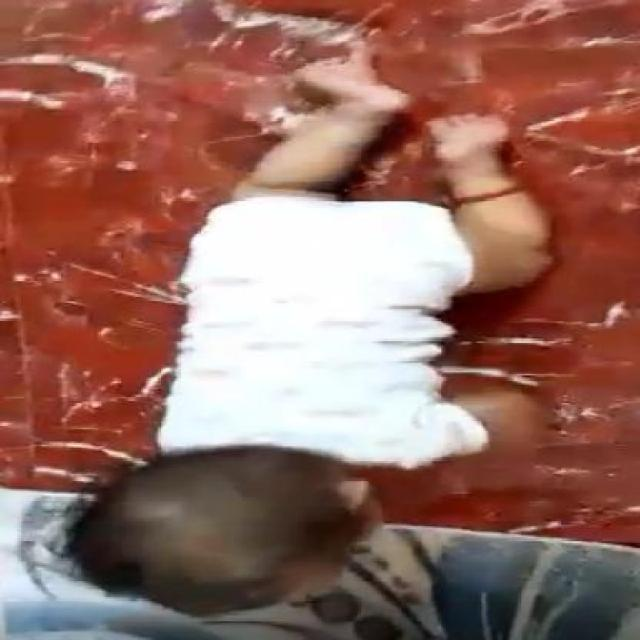baby: (63, 58, 554, 620)
